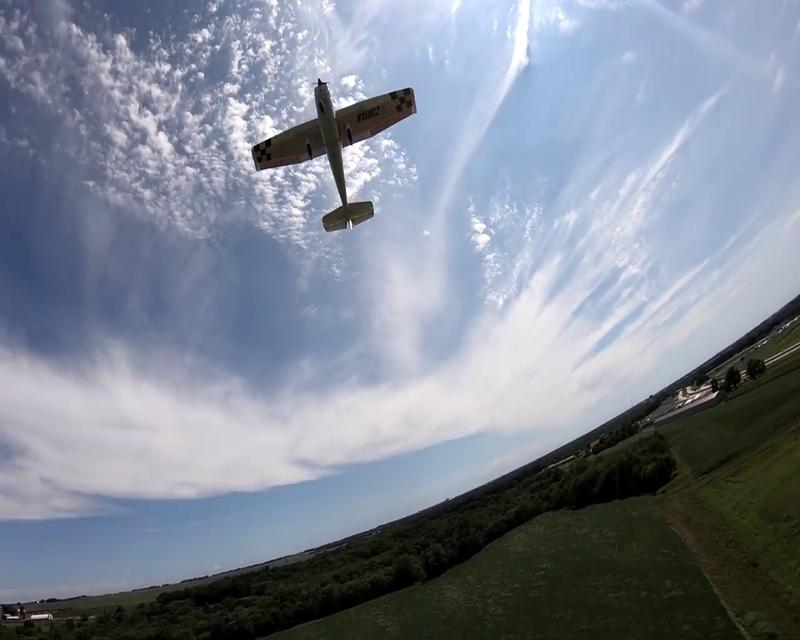UAV: (249, 76, 417, 232)
